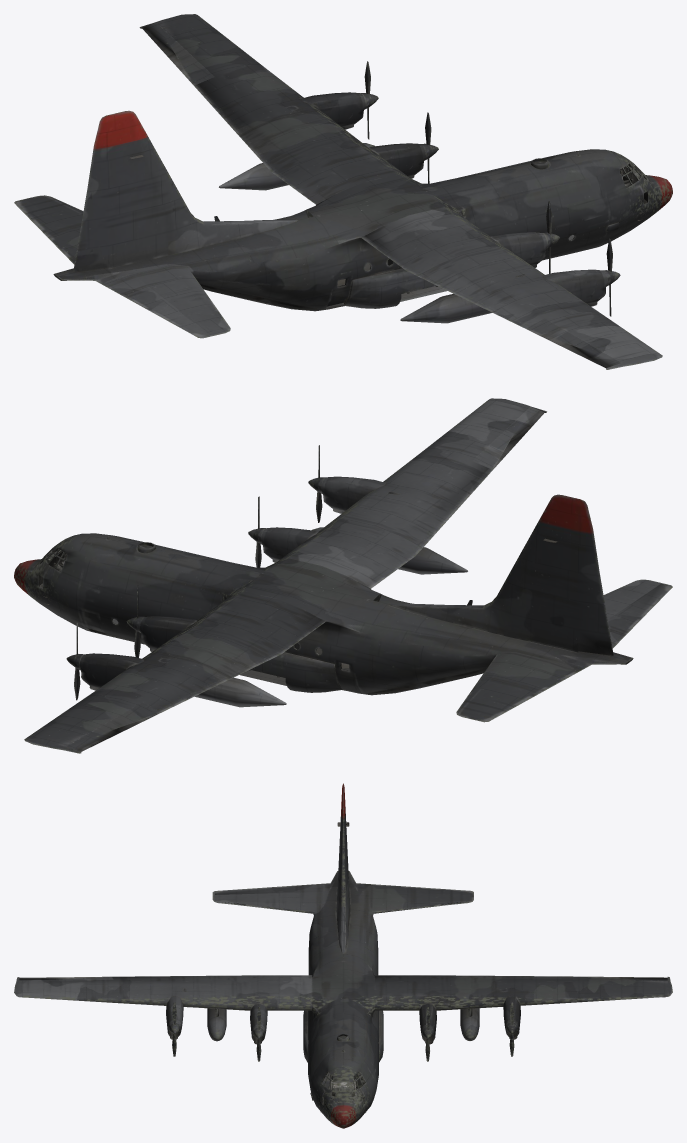
File: fh_battle_e_transport.glb
The picture shows the model from 3 angles, top to bottom: view 1: azimuth 30°, elevation 25°; view 2: azimuth 150°, elevation 25°; view 3: azimuth 270°, elevation 25°; orthographic projection. The views are drawn at different scales.
Parts seen in each view (by area): view 1: transport; view 2: transport; view 3: transport.
Boxes of the visible parts, x1,y1,x2,y2 form: transport: (14, 14, 672, 369); transport: (14, 398, 672, 753); transport: (14, 783, 672, 1128).
Size of the model in its own units: 1 by 0.3808 by 1.33.
Materials: 1 (1 with a texture image).
